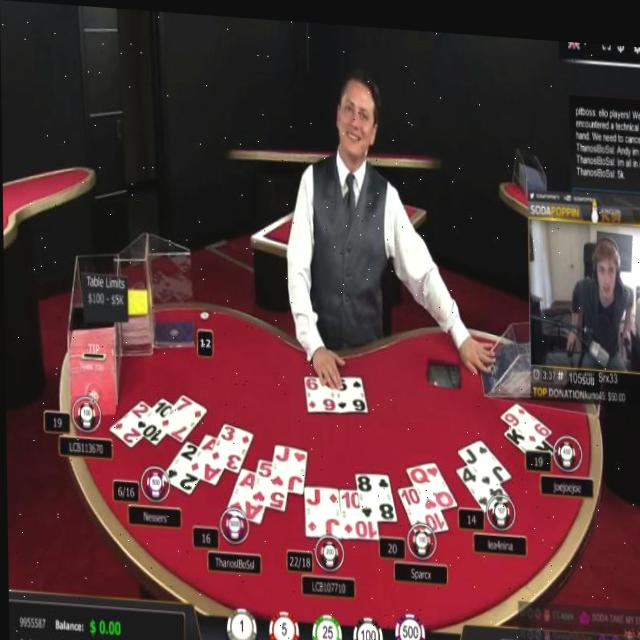Card-10: (396, 479, 446, 529), (338, 483, 377, 534), (134, 395, 172, 443)
Card-2: (108, 396, 150, 445), (161, 438, 197, 491)
Card-3: (210, 419, 251, 470)
Card-4: (455, 456, 509, 504)
Card-5: (250, 453, 286, 504)
Card-6: (303, 371, 335, 407), (334, 370, 366, 406)
Card-7: (161, 391, 205, 438)
Card-8: (354, 467, 395, 512)
Card-9: (500, 394, 551, 432)
Card-A: (225, 464, 264, 520), (186, 429, 222, 483)
Card-J: (457, 431, 510, 478), (304, 481, 340, 532), (272, 437, 305, 491)
Card-K: (502, 419, 554, 449)
Card-Q: (405, 454, 455, 501)
